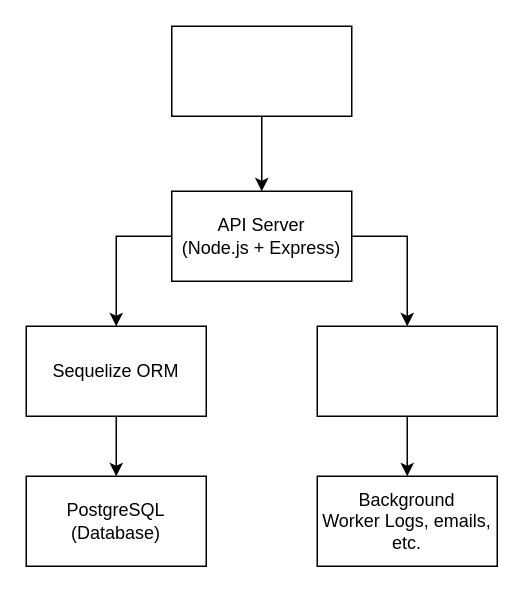
This 524x593 diagram has some shape labels left out. Each missing label, with the centre of its shape:
"Frontend (Vercel) React/Next.js SPA" belongs at point 261,70.
"Redis Pub/Sub (Task Events)" belongs at point 406,370.
